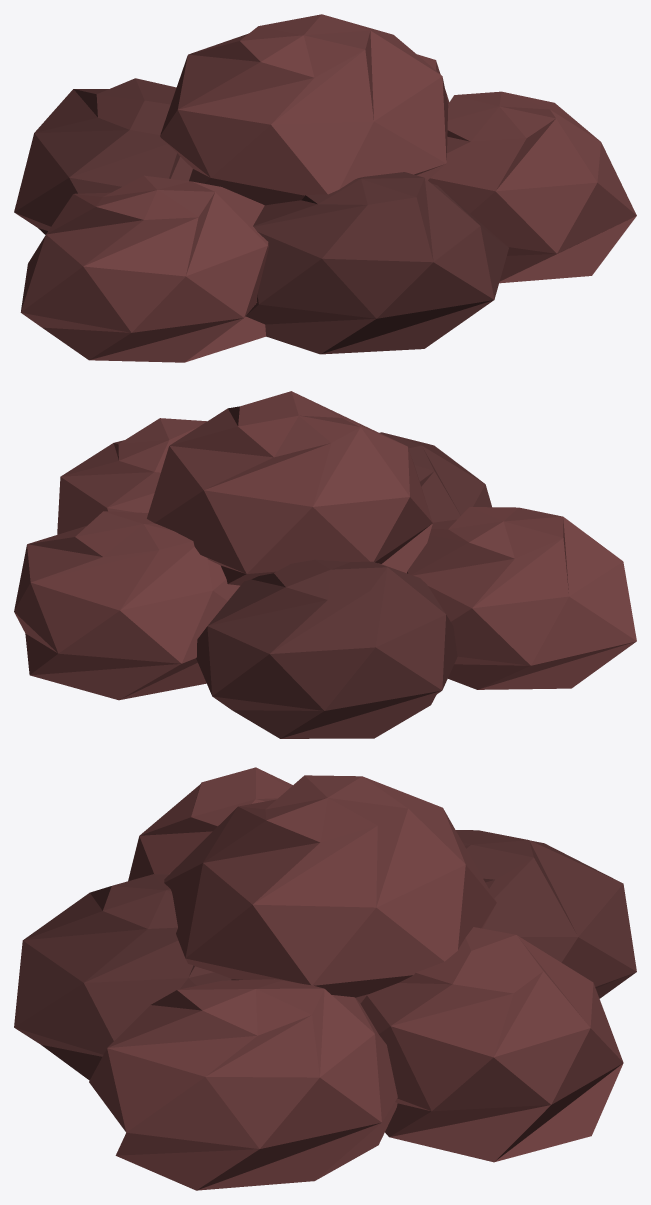
Rendered from item_meat_small_b.obj.
3 views of the same model, one above another, from view 1: azimuth 30°, elevation 25°; view 2: azimuth 150°, elevation 25°; view 3: azimuth 270°, elevation 25° (orthographic). The views are drawn at different scales.
Bounding box in the file's own units: 0.8472 × 0.3039 × 0.6868.
